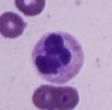N: (32, 32, 86, 82)
